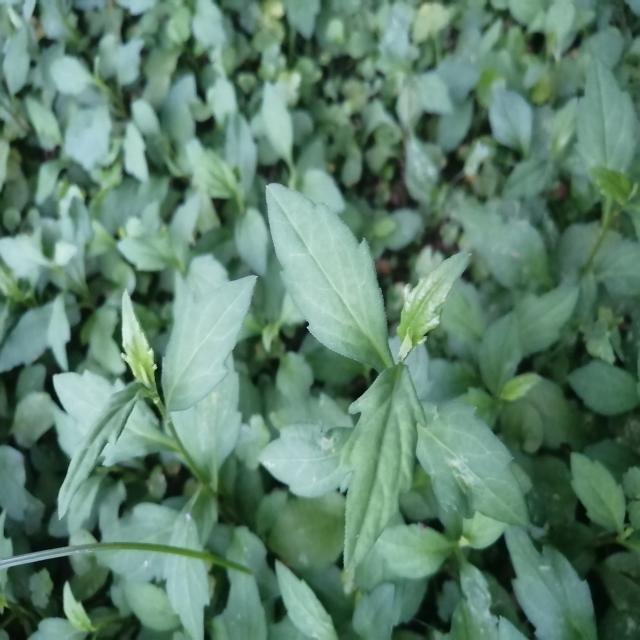Indian aster: (262, 172, 513, 563), (52, 280, 297, 545)
